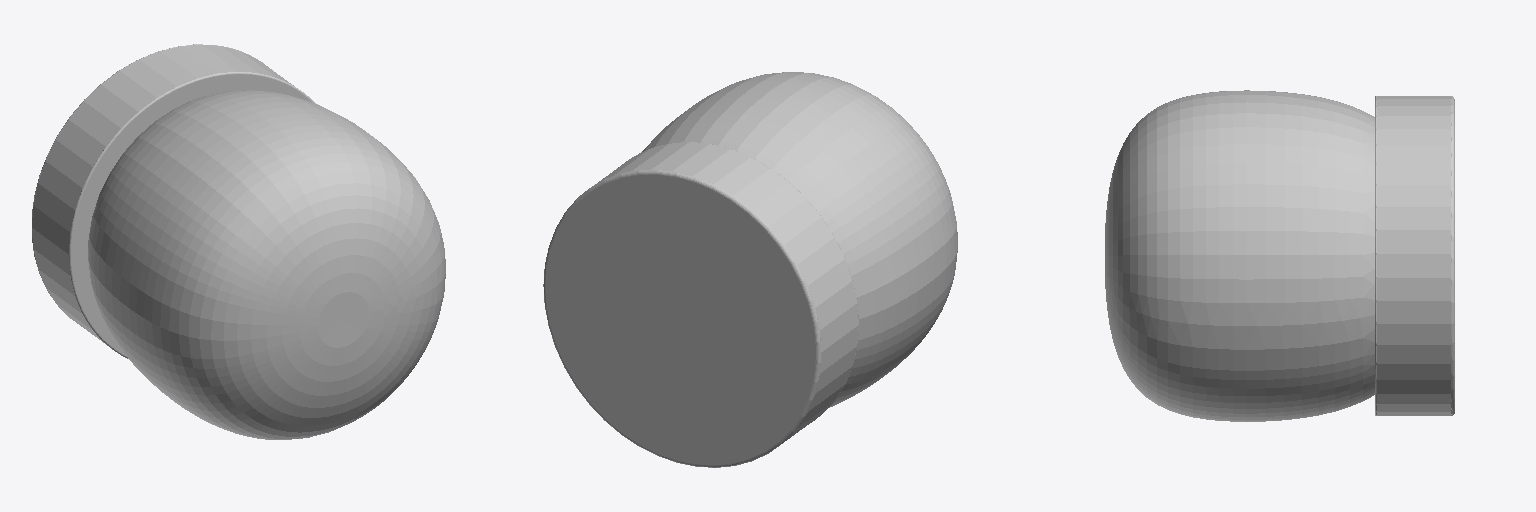
The model's file is Small Lamp for Flutter.obj.
3 renders of one model, left to right at view 1: azimuth 30°, elevation 25°; view 2: azimuth 150°, elevation 25°; view 3: azimuth 270°, elevation 25°, orthographic.
Parts seen in each view (by area): view 1: Body1, Body21; view 2: Body21, Body1; view 3: Body1, Body21.
Part boxes in pixels (bbox=[...]): Body1: bbox=[88, 90, 445, 439]; Body21: bbox=[32, 44, 315, 358]; Body21: bbox=[543, 142, 858, 467]; Body1: bbox=[642, 72, 957, 407]; Body1: bbox=[1105, 90, 1374, 421]; Body21: bbox=[1375, 96, 1454, 415].
Bounding box in the file's own units: 16.55 × 16.53 × 17.44.